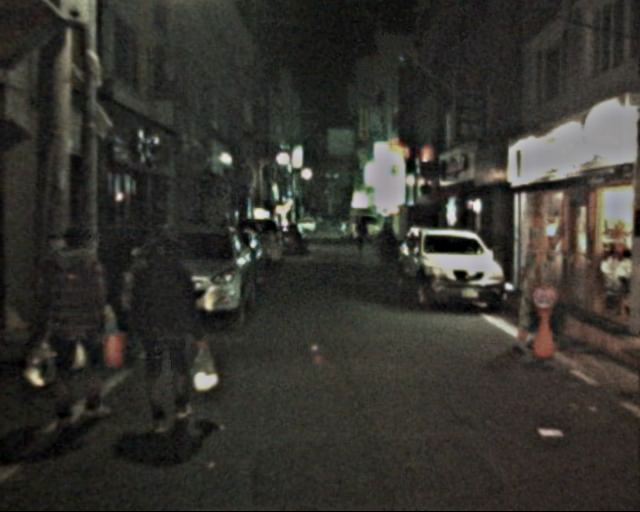person: (32, 217, 128, 430), (125, 230, 210, 436), (354, 218, 370, 253)
